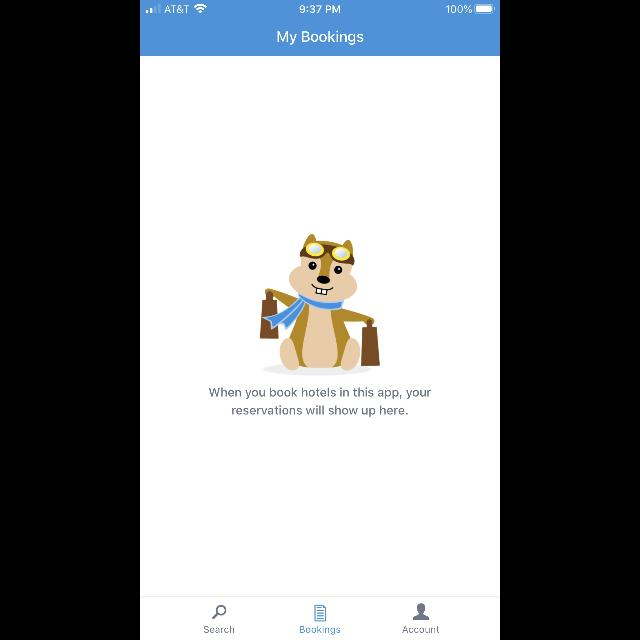icon: (413, 604, 429, 620), (314, 604, 326, 622), (212, 605, 226, 619)
image: (260, 234, 380, 376)
text: (209, 388, 431, 417), (277, 31, 363, 45), (300, 626, 340, 634), (403, 626, 439, 632), (204, 626, 234, 632)
uppertaskbar: (140, 0, 500, 14)
